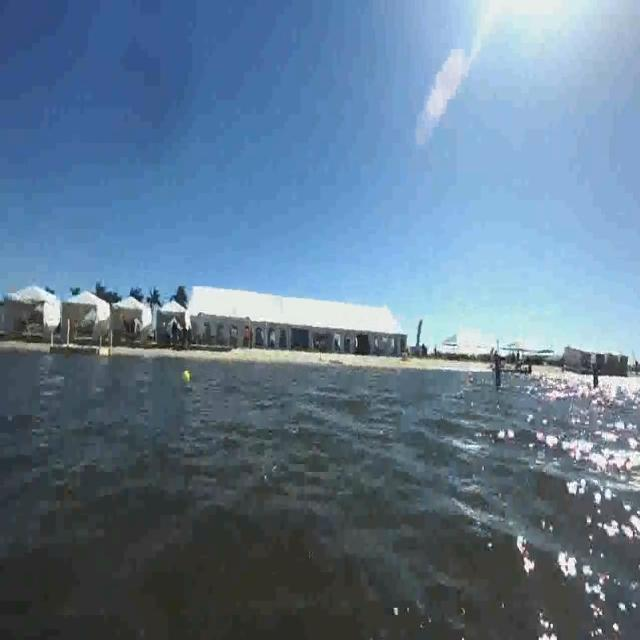yellow-buoy: (182, 368, 192, 385)
